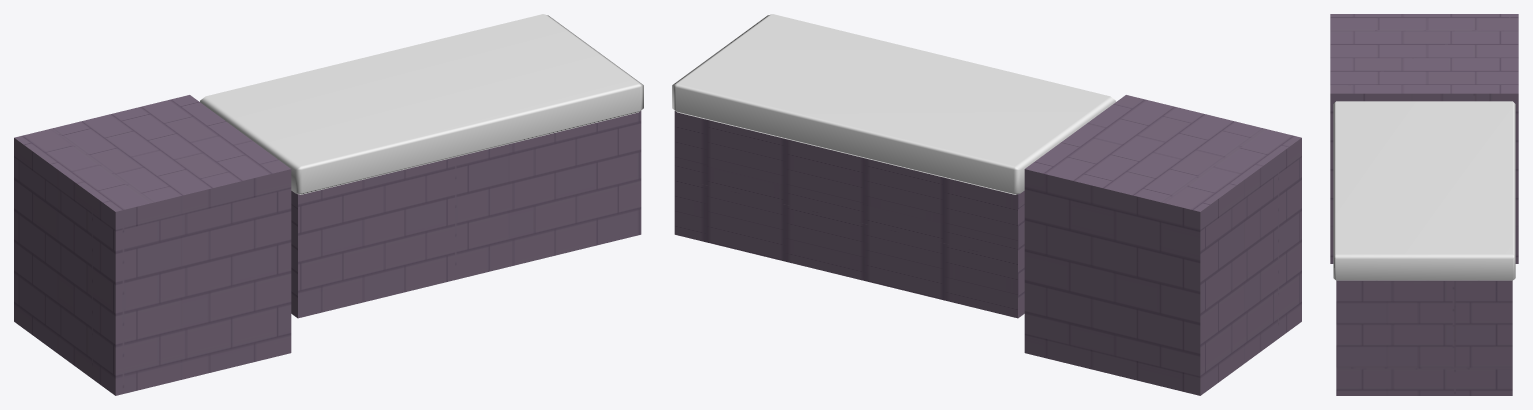
The model's file is wall.fbx.
The picture shows the model from 3 angles, left to right: view 1: azimuth 30°, elevation 25°; view 2: azimuth 150°, elevation 25°; view 3: azimuth 270°, elevation 25°; orthographic projection. The views are drawn at different scales.
Parts seen in each view (by area): view 1: Wall3, Wall; view 2: Wall3, Wall; view 3: Wall3, Wall.
Boxes of the visible parts, x1,y1,x2,y2 form: Wall3: [200, 14, 643, 318]; Wall: [14, 95, 291, 395]; Wall3: [672, 14, 1115, 318]; Wall: [1024, 95, 1301, 395]; Wall3: [1333, 101, 1515, 395]; Wall: [1330, 14, 1518, 263].
Size of the model in its own units: 594 by 197 by 197.
Materials: 1 (1 with a texture image).
